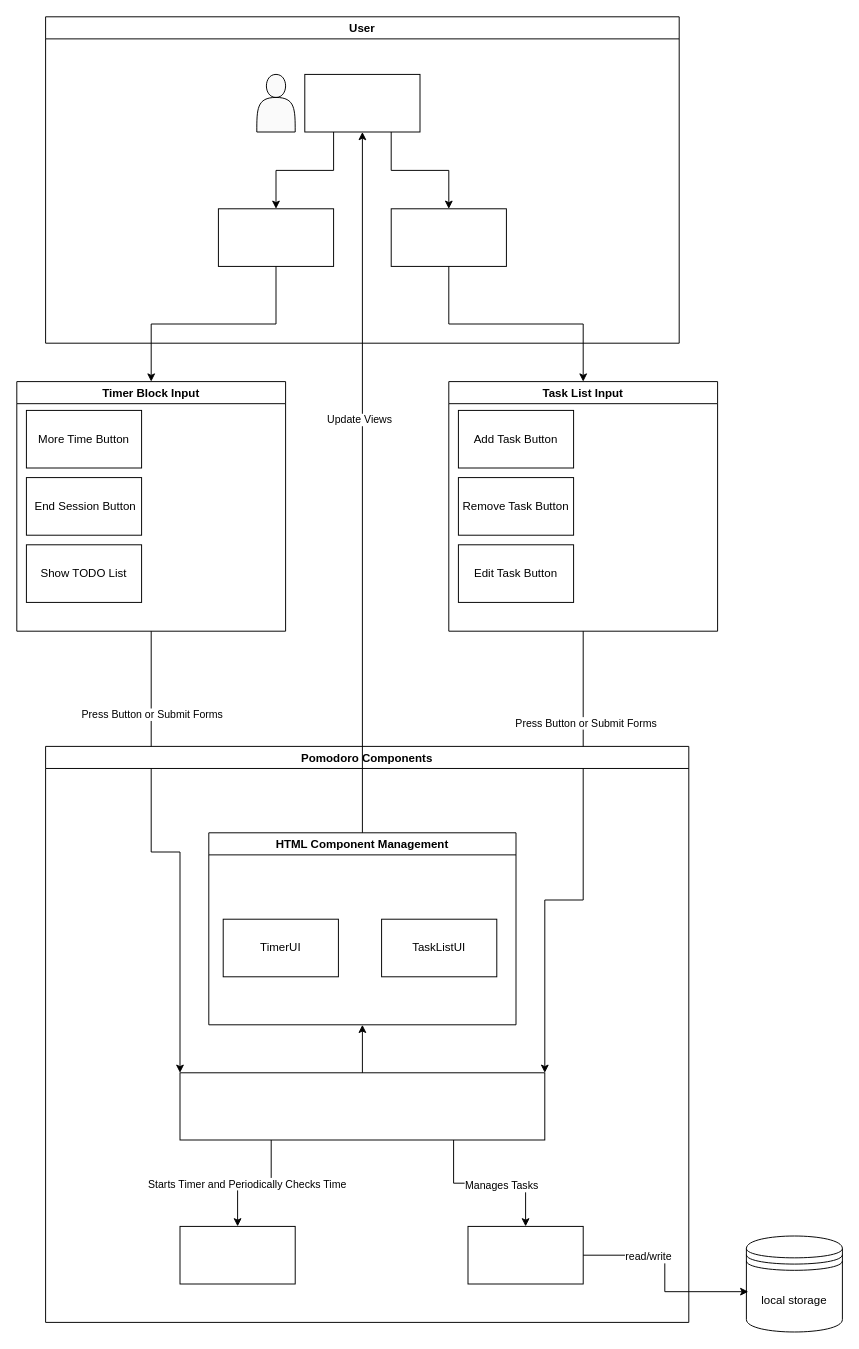
The diagram is 859 pixels wide and 1349 high, and some of its shapes have lost their labels. The centre of each missing label's shape, as x and y in pixels:
"HTML/CSS" goes at (362,102).
"Session Script" goes at (362,1106).
"Task List Block" goes at (448,237).
"Task List Class" goes at (525,1254).
"Timer Block" goes at (275,237).
"Timer Class" goes at (237,1254).
